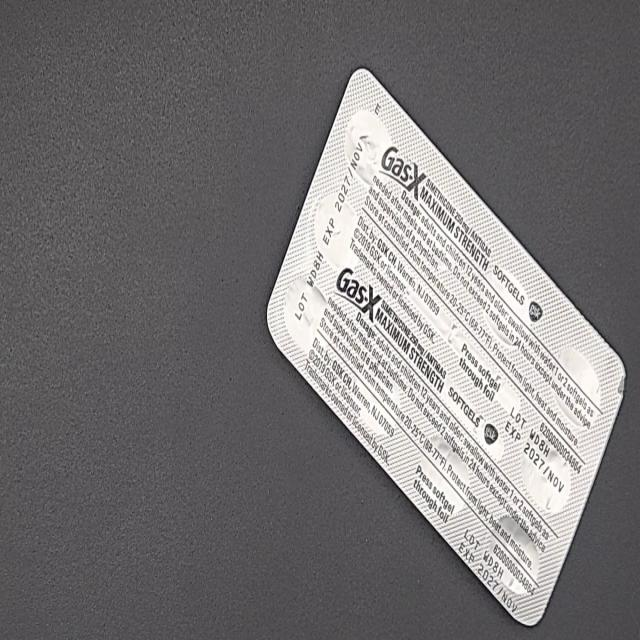no defect: (6, 14, 32, 64)
